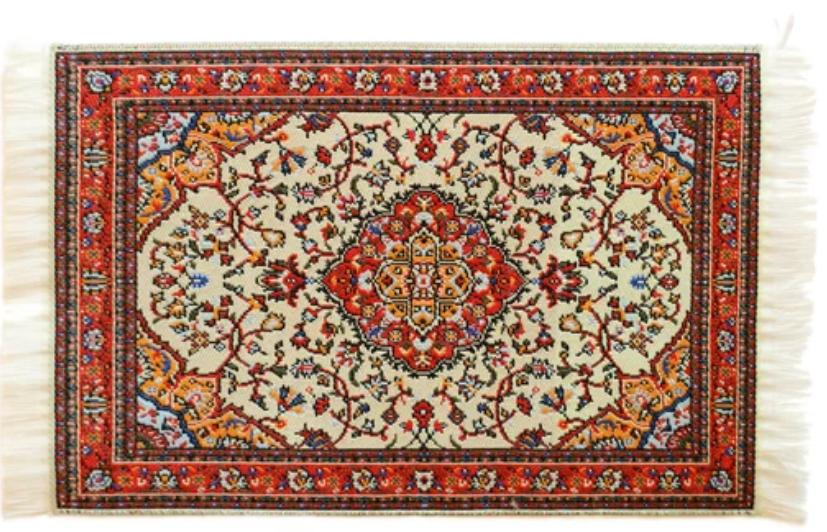carpet: (55, 51, 759, 510)
